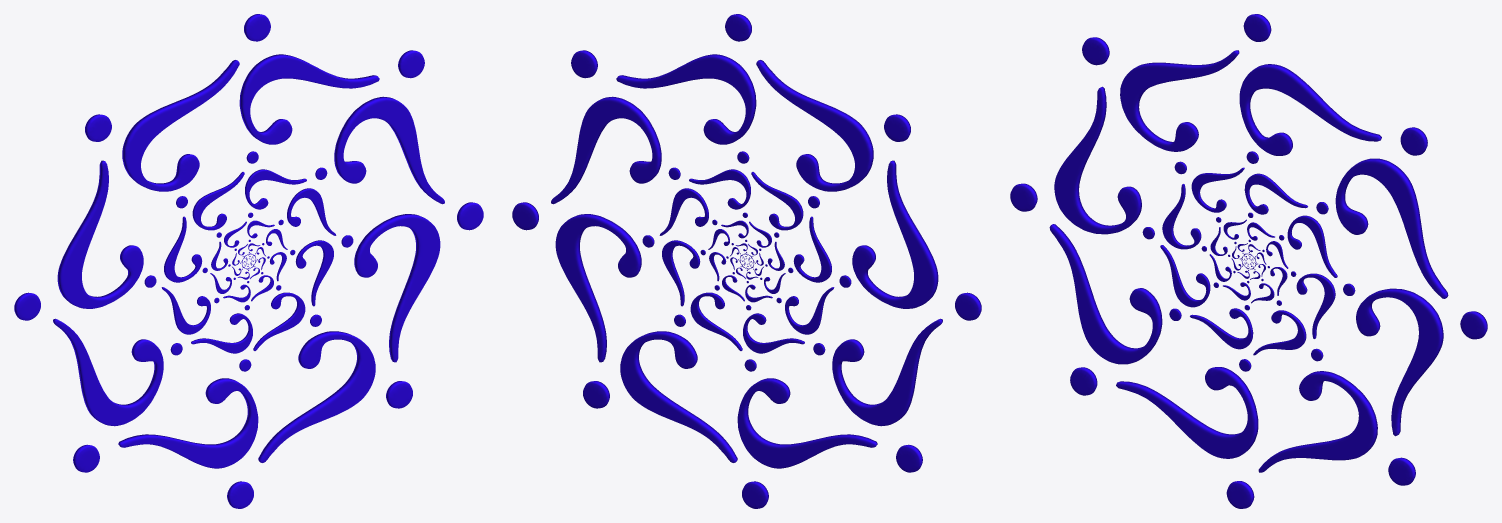
File: testo1.fbx
The picture shows the model from 3 angles, left to right: view 1: azimuth 30°, elevation 25°; view 2: azimuth 150°, elevation 25°; view 3: azimuth 330°, elevation 25°; orthographic projection.
Parts seen in each view (by area): view 1: Text45339; view 2: Text45339; view 3: Text45339.
Boxes of the visible parts, box(x1,y1,x2,y2) form: Text45339: box(14, 14, 483, 508); Text45339: box(512, 14, 981, 508); Text45339: box(1010, 14, 1487, 508).
Bounding box in the file's own units: 124263 × 124263 × 2293.
